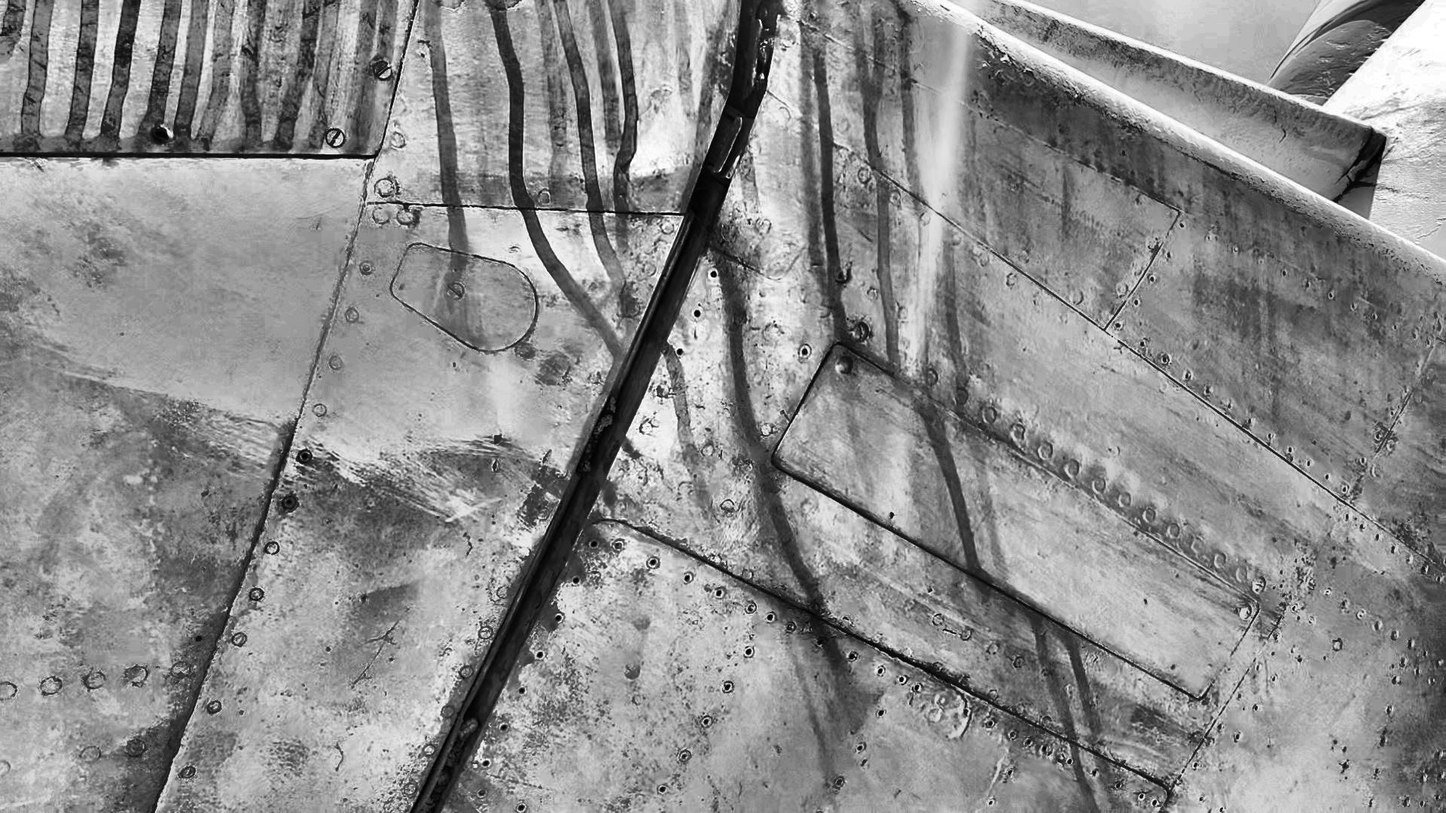crack: (1341, 149, 1382, 183)
dent: (633, 164, 687, 192), (362, 578, 418, 602)
missing-head: (149, 124, 171, 149), (297, 450, 313, 465), (282, 495, 296, 512), (700, 713, 715, 728), (723, 678, 736, 694), (764, 608, 776, 623), (815, 634, 827, 649), (876, 666, 889, 679), (744, 644, 755, 659), (715, 585, 727, 598), (1132, 297, 1145, 309), (589, 538, 601, 550), (535, 649, 546, 662), (1303, 277, 1316, 288), (614, 536, 623, 551), (482, 758, 493, 770), (648, 557, 659, 568), (678, 751, 689, 762), (659, 783, 670, 794), (849, 649, 857, 664), (554, 612, 563, 625), (501, 719, 510, 732), (476, 787, 486, 798), (683, 572, 693, 583), (898, 674, 908, 685), (1024, 736, 1034, 747), (1327, 288, 1337, 299), (1305, 457, 1314, 469), (877, 709, 887, 719), (913, 683, 923, 693), (693, 307, 702, 318), (708, 269, 717, 280), (1115, 781, 1126, 790), (1288, 444, 1297, 455), (1147, 275, 1156, 286), (676, 348, 685, 358), (1246, 416, 1256, 425), (1342, 484, 1352, 493), (1203, 386, 1211, 397), (570, 578, 582, 585), (1324, 472, 1331, 484), (518, 685, 527, 694), (516, 804, 525, 813), (1041, 745, 1049, 755), (1359, 523, 1367, 533), (1139, 789, 1145, 802), (1162, 354, 1169, 365), (1184, 373, 1194, 380), (1115, 324, 1124, 331), (1420, 563, 1427, 572), (1165, 250, 1171, 260), (1139, 341, 1147, 348), (1282, 269, 1288, 277)
